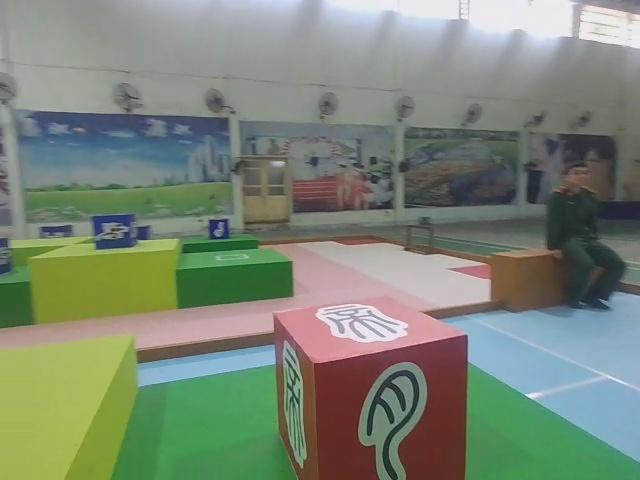R2 Fake: (269, 292, 472, 480)
